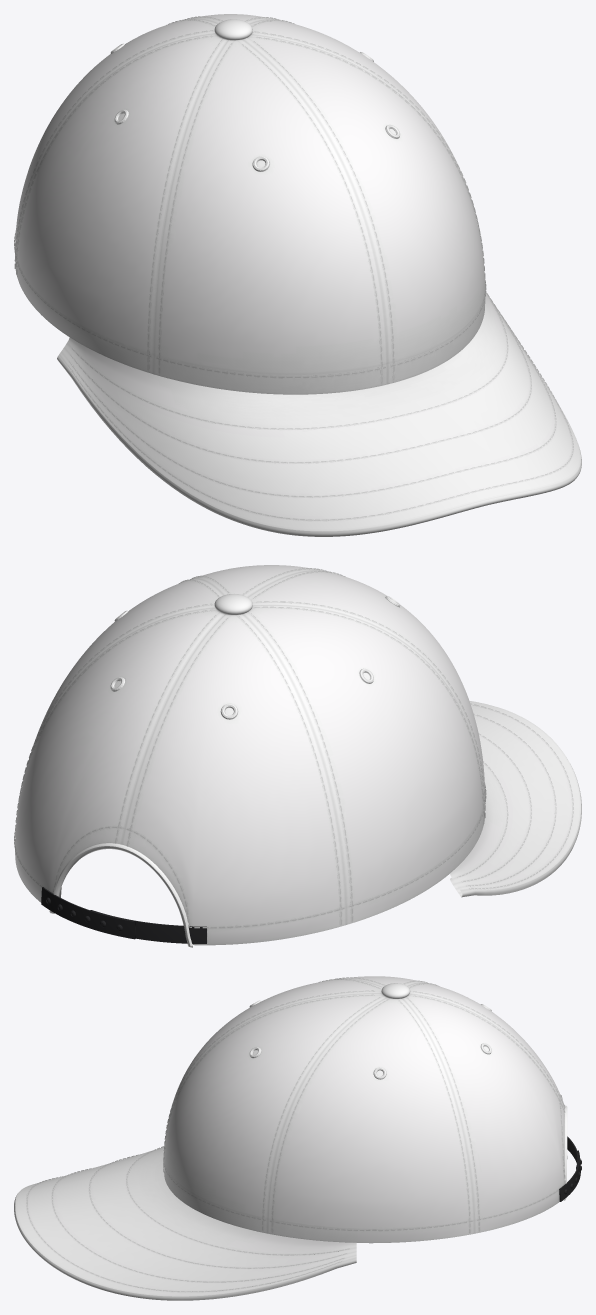
File: japones.glb
The picture shows the model from 3 angles, top to bottom: view 1: azimuth 30°, elevation 25°; view 2: azimuth 150°, elevation 25°; view 3: azimuth 270°, elevation 25°; orthographic projection. The views are drawn at different scales.
Visible parts, largest first — view 1: frente, aba, laterais, costura-aba, traseira, aba__beirada, costura-frente, costura-laterais, costura-traseira, botao; view 2: traseira, laterais, aba, frente, fixo__regulador, costura-traseira, costura-laterais, costura-aba, traseira__vies, costura-frente, aba__beirada, botao; view 3: laterais, frente, aba, traseira, costura-aba, aba__beirada, costura-frente, costura-laterais, costura-traseira, fixo__regulador.
Boxes of the visible parts, left/top/right/bottom form: frente: left=154, top=34, right=485, bottom=394; aba: left=58, top=294, right=580, bottom=531; laterais: left=16, top=19, right=474, bottom=374; costura-aba: left=68, top=293, right=573, bottom=521; traseira: left=15, top=14, right=274, bottom=270; aba__beirada: left=57, top=356, right=581, bottom=536; costura-frente: left=156, top=36, right=486, bottom=382; costura-laterais: left=16, top=19, right=483, bottom=369; costura-traseira: left=14, top=16, right=278, bottom=268; botao: left=214, top=19, right=252, bottom=40; traseira: left=15, top=608, right=346, bottom=945; laterais: left=22, top=579, right=483, bottom=924; aba: left=450, top=701, right=580, bottom=891; frente: left=191, top=565, right=485, bottom=820; fixo__regulador: left=41, top=887, right=206, bottom=943; costura-traseira: left=14, top=609, right=344, bottom=928; costura-laterais: left=17, top=579, right=484, bottom=921; costura-aba: left=457, top=703, right=573, bottom=889; traseira__vies: left=49, top=843, right=193, bottom=947; costura-frente: left=190, top=568, right=486, bottom=817; aba__beirada: left=461, top=764, right=581, bottom=897; botao: left=214, top=594, right=252, bottom=614; laterais: left=267, top=976, right=474, bottom=1243; frente: left=164, top=979, right=386, bottom=1233; aba: left=15, top=1147, right=356, bottom=1296; traseira: left=402, top=983, right=564, bottom=1233; costura-aba: left=26, top=1146, right=349, bottom=1292; aba__beirada: left=14, top=1195, right=356, bottom=1300; costura-frente: left=163, top=979, right=379, bottom=1230; costura-laterais: left=270, top=977, right=472, bottom=1233; costura-traseira: left=407, top=983, right=565, bottom=1231; fixo__regulador: left=559, top=1136, right=581, bottom=1201.
Bounding box in the file's own units: 1.7 × 1.33 × 2.74.
11 materials, 6 textured.
